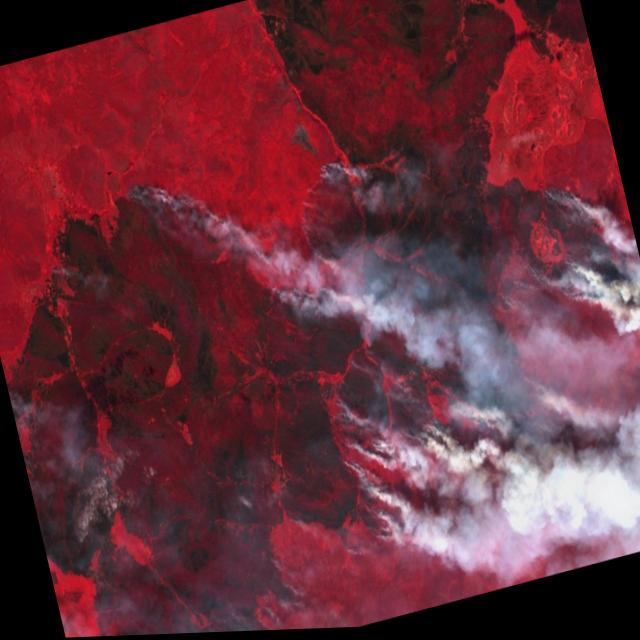fire: (0, 49, 640, 640)
